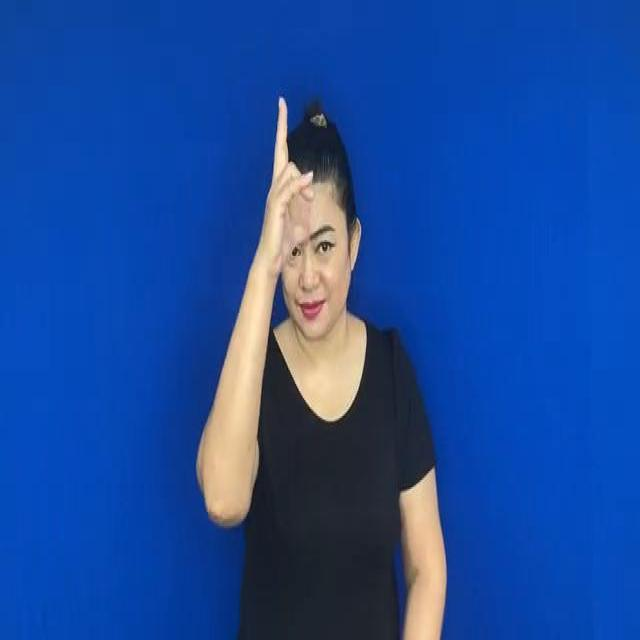chicken: (264, 72, 316, 241)
